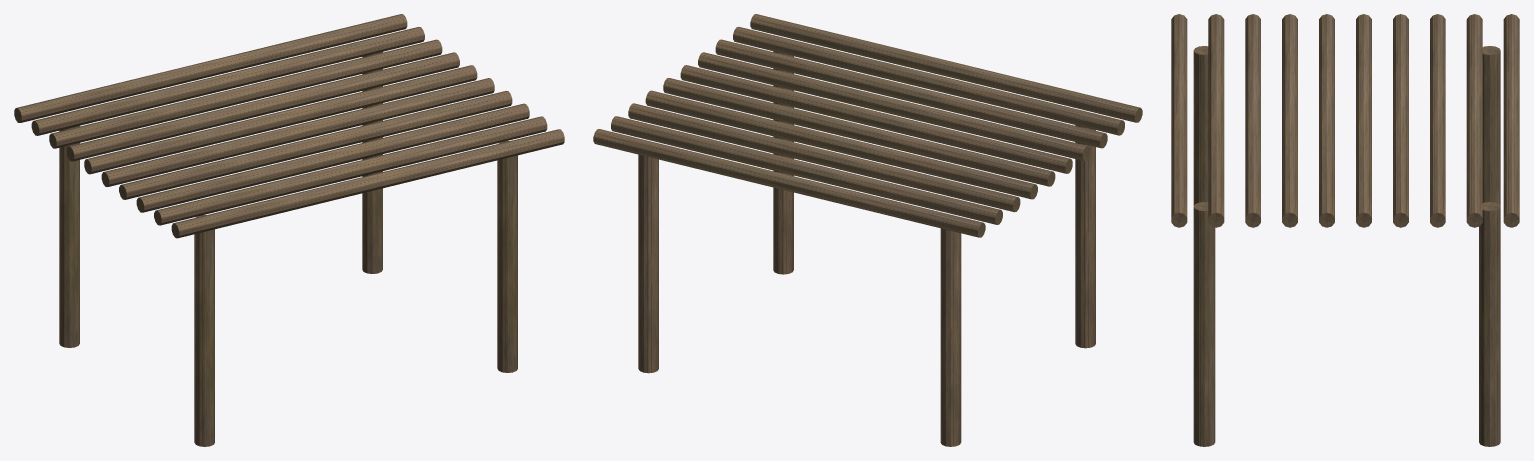
File: shade-shelter.glb
The picture shows the model from 3 angles, left to right: view 1: azimuth 30°, elevation 25°; view 2: azimuth 150°, elevation 25°; view 3: azimuth 270°, elevation 25°; orthographic projection. The views are drawn at different scales.
Parts seen in each view (by area): view 1: Dog shade 0 roof slat 3, Dog shade 0 roof slat 1, Dog shade 0 roof slat 4, Dog shade 0 roof slat 6, Dog shade 0 roof slat 0, Dog shade 0 roof slat 2, Dog shade 0 roof slat 7, Dog shade 0 roof slat 5, Dog shade 0 roof slat 9, Dog shade 0 roof slat 8, Dog shade 0 post.002, Dog shade 0 post (+2 smaller); view 2: Dog shade 0 roof slat 4, Dog shade 0 roof slat 6, Dog shade 0 roof slat 0, Dog shade 0 roof slat 2, Dog shade 0 roof slat 3, Dog shade 0 roof slat 5, Dog shade 0 roof slat 7, Dog shade 0 roof slat 9, Dog shade 0 roof slat 1, Dog shade 0 roof slat 8, Dog shade 0 post.001, Dog shade 0 post.003 (+2 smaller); view 3: Dog shade 0 post.002, Dog shade 0 post.003, Dog shade 0 roof slat 1, Dog shade 0 roof slat 8, Dog shade 0 roof slat 0, Dog shade 0 roof slat 9, Dog shade 0 roof slat 2, Dog shade 0 roof slat 4, Dog shade 0 roof slat 5, Dog shade 0 roof slat 7, Dog shade 0 roof slat 3, Dog shade 0 roof slat 6 (+2 smaller).
Part boxes in pixels (bbox=[...]): Dog shade 0 roof slat 3: bbox=[119, 91, 512, 199]; Dog shade 0 roof slat 1: bbox=[154, 116, 547, 225]; Dog shade 0 roof slat 4: bbox=[101, 78, 494, 186]; Dog shade 0 roof slat 6: bbox=[66, 52, 459, 161]; Dog shade 0 roof slat 0: bbox=[171, 129, 564, 238]; Dog shade 0 roof slat 2: bbox=[136, 103, 529, 212]; Dog shade 0 roof slat 7: bbox=[49, 39, 442, 148]; Dog shade 0 roof slat 5: bbox=[84, 65, 477, 174]; Dog shade 0 roof slat 9: bbox=[14, 14, 407, 122]; Dog shade 0 roof slat 8: bbox=[31, 27, 424, 135]; Dog shade 0 post.002: bbox=[497, 141, 517, 372]; Dog shade 0 post: bbox=[194, 215, 214, 446]; Dog shade 0 roof slat 4: bbox=[680, 65, 1072, 173]; Dog shade 0 roof slat 6: bbox=[645, 90, 1037, 199]; Dog shade 0 roof slat 0: bbox=[750, 14, 1142, 122]; Dog shade 0 roof slat 2: bbox=[715, 39, 1107, 148]; Dog shade 0 roof slat 3: bbox=[698, 52, 1090, 160]; Dog shade 0 roof slat 5: bbox=[663, 78, 1055, 186]; Dog shade 0 roof slat 7: bbox=[628, 103, 1020, 212]; Dog shade 0 roof slat 9: bbox=[593, 129, 985, 237]; Dog shade 0 roof slat 1: bbox=[733, 27, 1124, 135]; Dog shade 0 roof slat 8: bbox=[611, 116, 1002, 224]; Dog shade 0 post.001: bbox=[940, 228, 961, 446]; Dog shade 0 post.003: bbox=[638, 154, 658, 373]; Dog shade 0 post.002: bbox=[1193, 202, 1215, 446]; Dog shade 0 post.003: bbox=[1479, 202, 1500, 446]; Dog shade 0 roof slat 1: bbox=[1208, 14, 1224, 227]; Dog shade 0 roof slat 8: bbox=[1466, 14, 1482, 227]; Dog shade 0 roof slat 0: bbox=[1171, 14, 1187, 227]; Dog shade 0 roof slat 9: bbox=[1503, 14, 1519, 227]; Dog shade 0 roof slat 2: bbox=[1245, 14, 1260, 227]; Dog shade 0 roof slat 4: bbox=[1319, 14, 1334, 227]; Dog shade 0 roof slat 5: bbox=[1356, 14, 1371, 227]; Dog shade 0 roof slat 7: bbox=[1430, 14, 1445, 227]; Dog shade 0 roof slat 3: bbox=[1282, 14, 1297, 227]; Dog shade 0 roof slat 6: bbox=[1393, 14, 1408, 227].
Bounding box in the file's own units: 5.6 × 3.3 × 4.15.
1 material, 1 textured.
